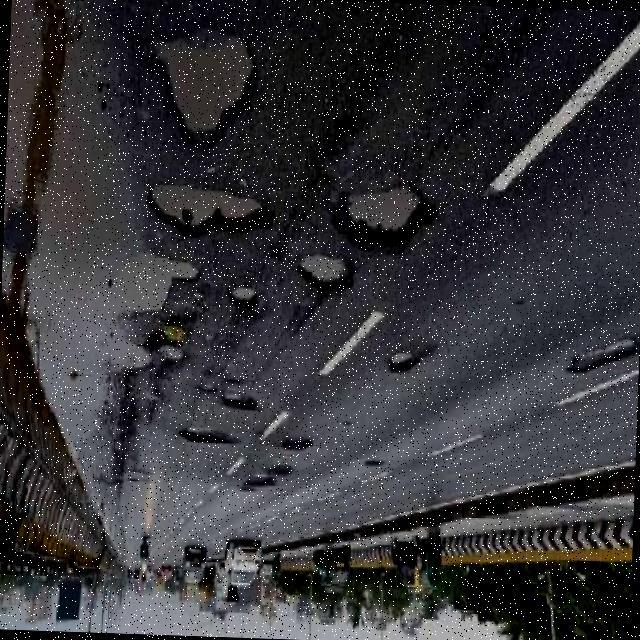Pothole: (153, 26, 256, 142), (325, 184, 438, 255), (147, 181, 274, 237), (565, 336, 639, 373), (296, 255, 353, 292), (386, 346, 433, 373), (220, 390, 258, 410), (226, 286, 257, 307)
